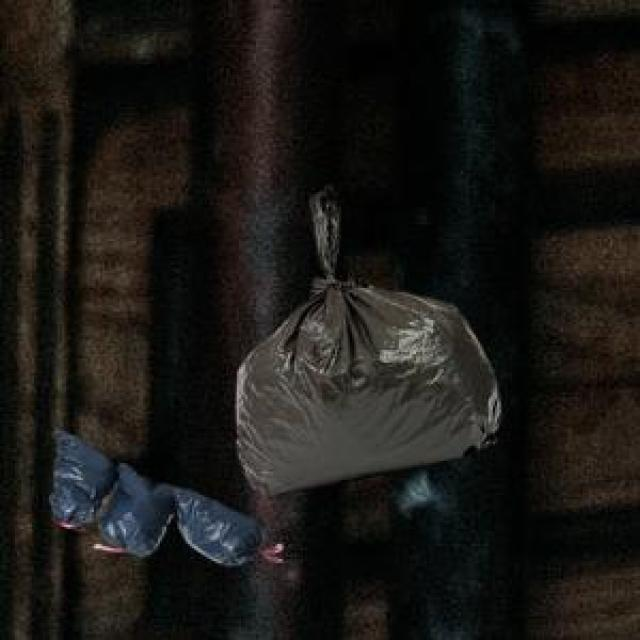waste: (238, 186, 500, 494), (51, 433, 265, 566)
